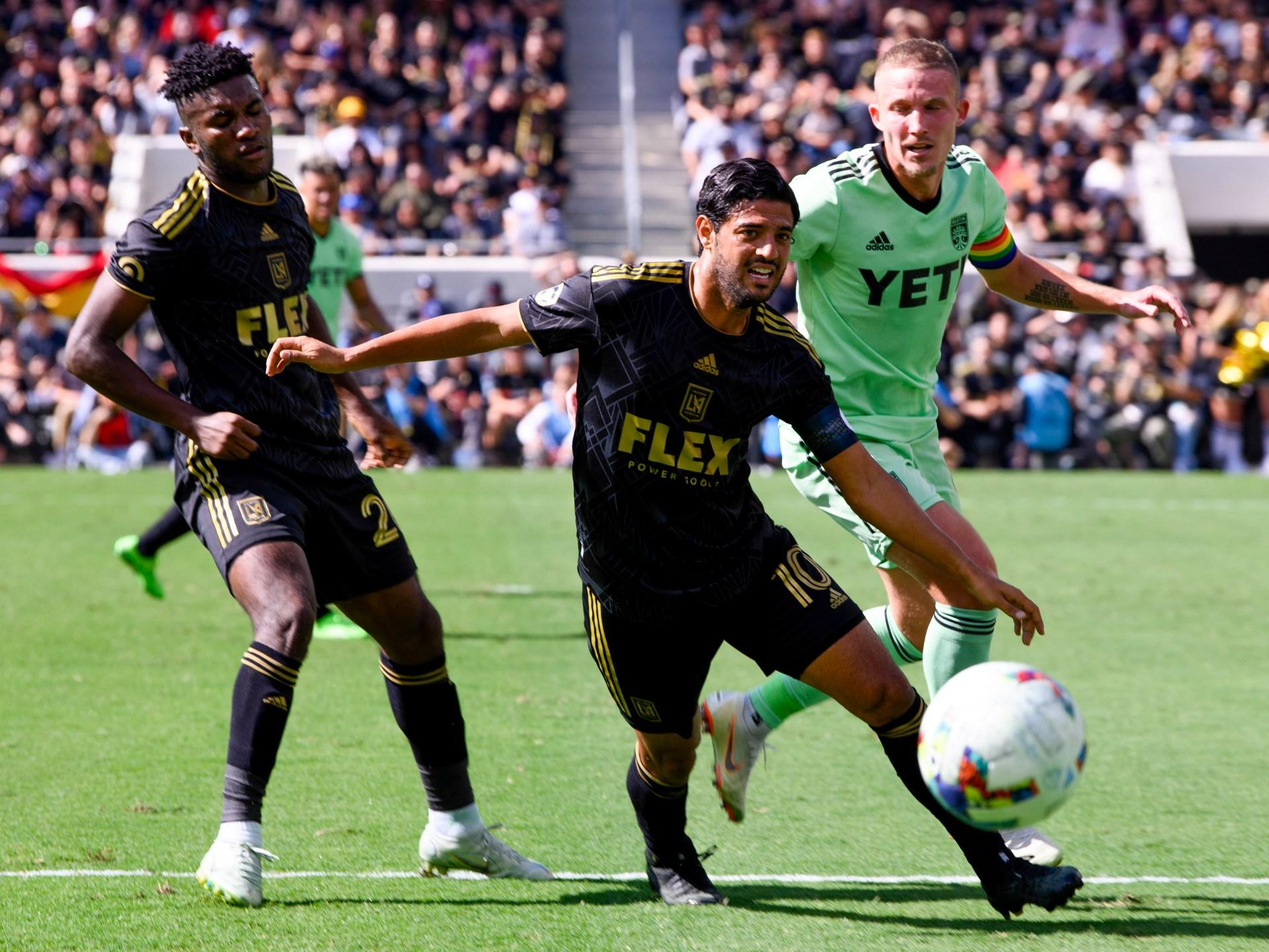ballon_football: (915, 658, 1091, 833)
